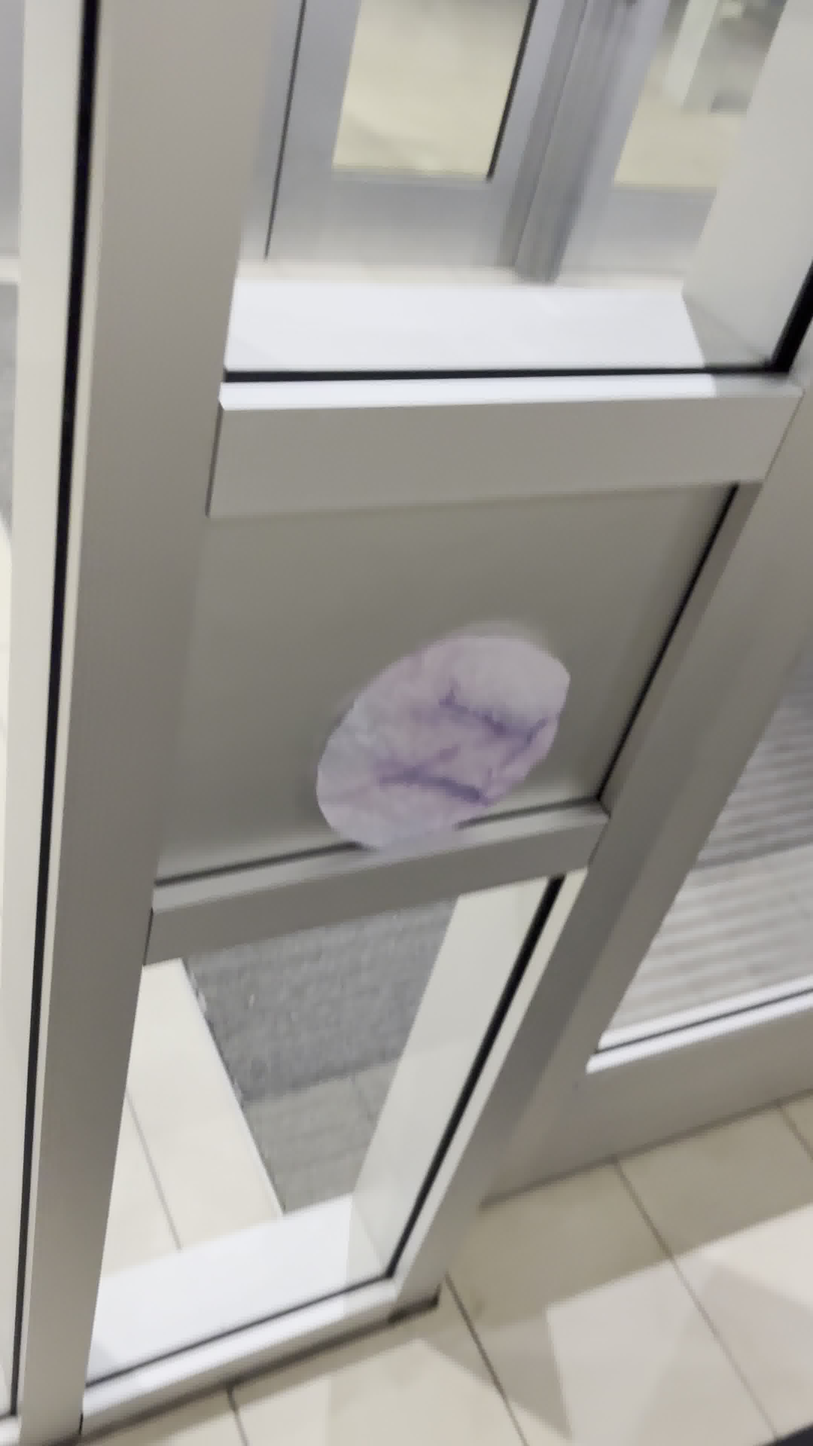Target: (310, 631, 573, 853)
